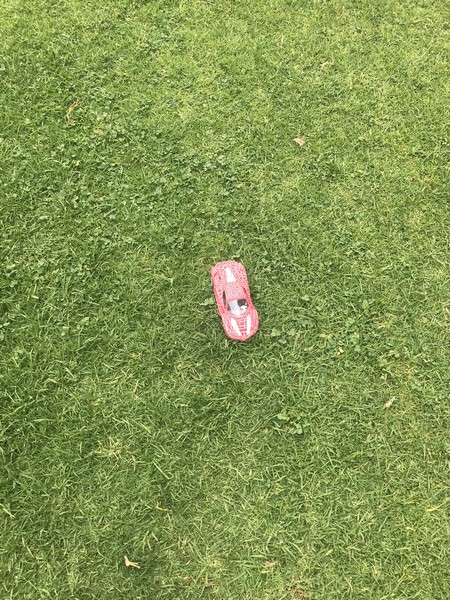RC: (209, 259, 263, 343)
